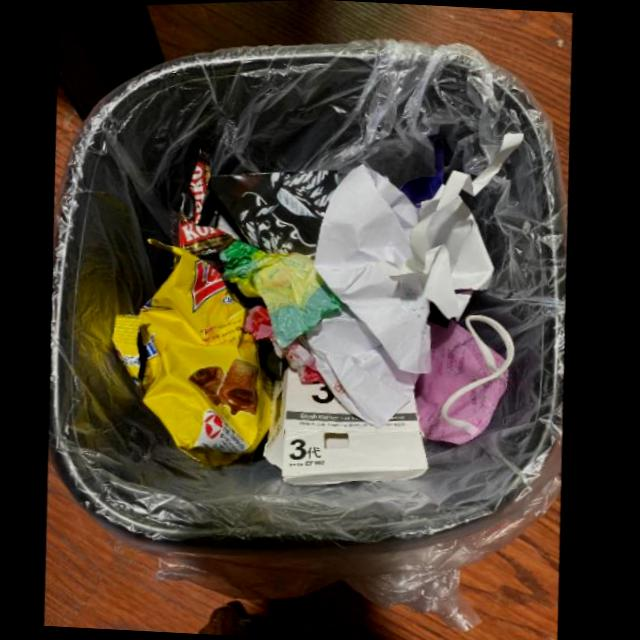bao_bi_thuc_pham: (116, 239, 278, 468), (222, 241, 346, 349), (174, 149, 243, 254), (249, 305, 329, 383)
carton: (269, 368, 434, 486)
giay: (310, 133, 525, 429)
khau_trang: (419, 315, 518, 445)
